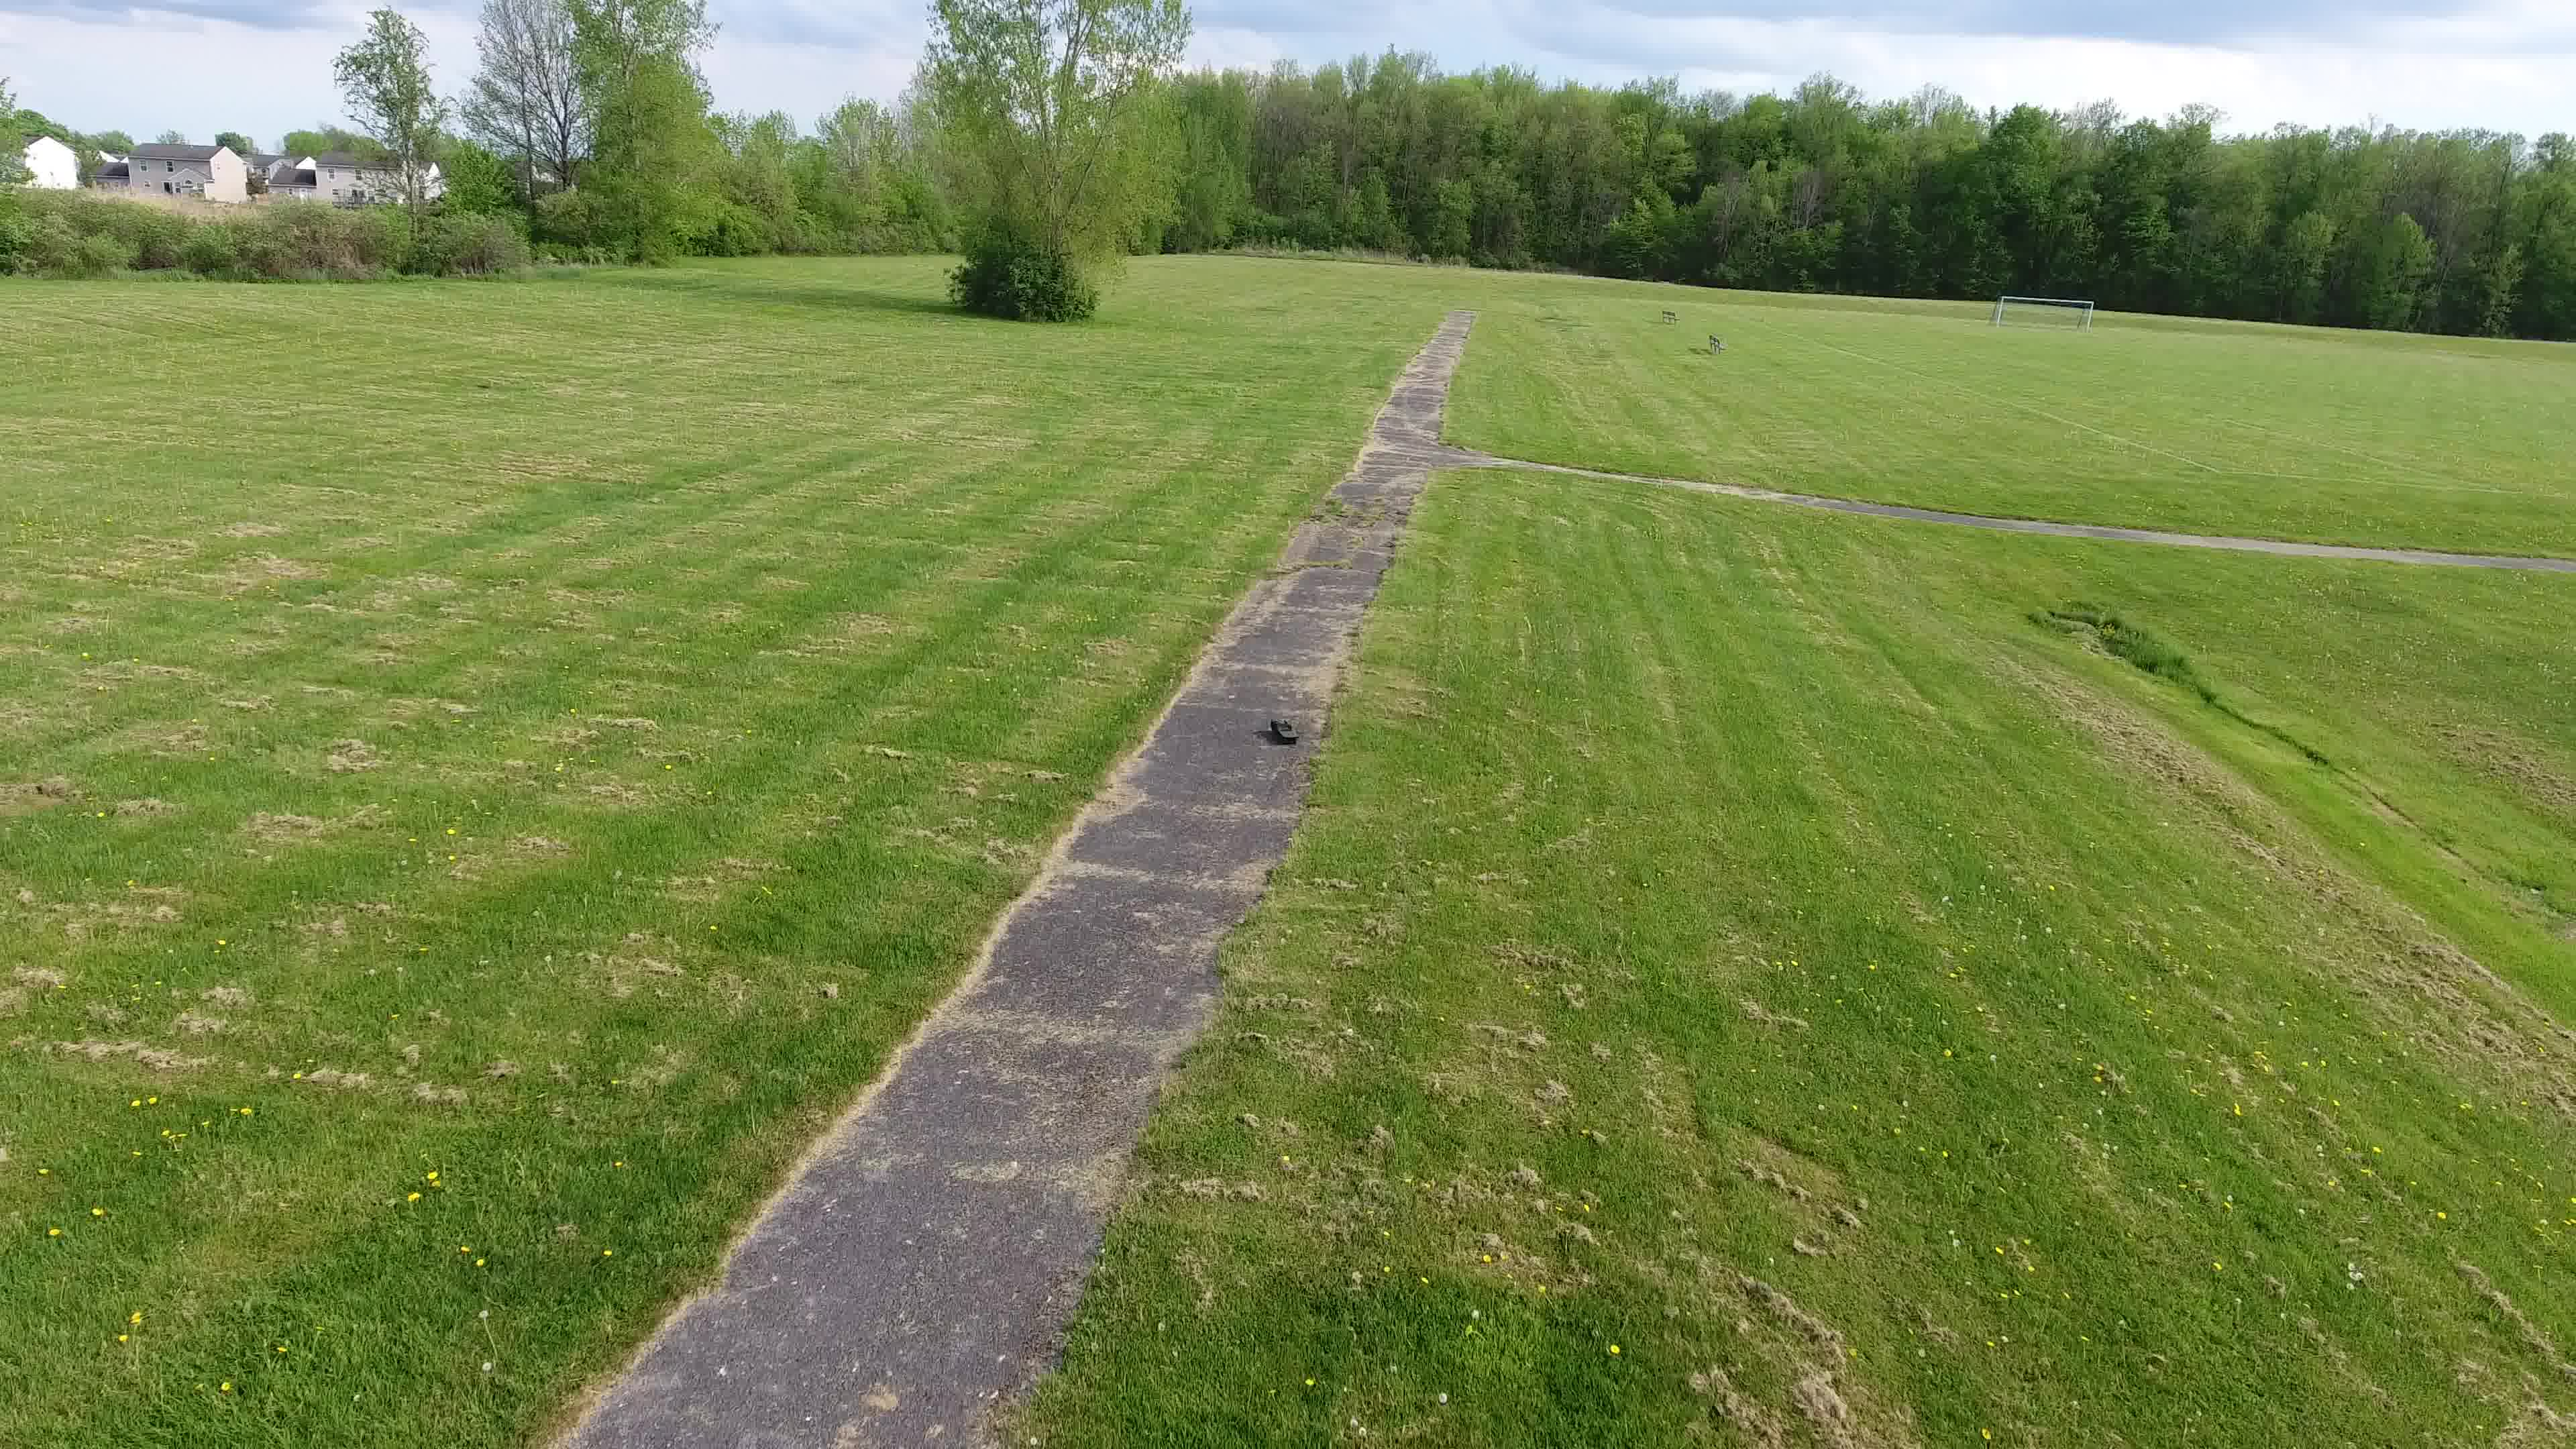transporter9_camo: (1269, 717, 1300, 743)
